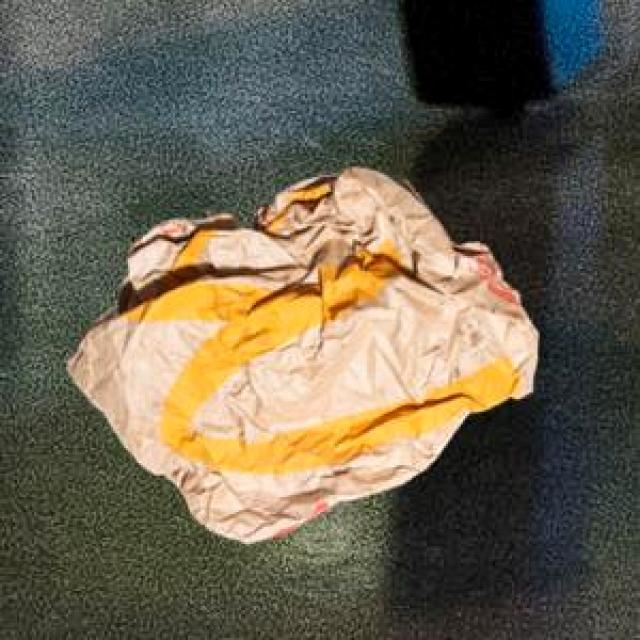Paper_Bag: (64, 165, 534, 541)
